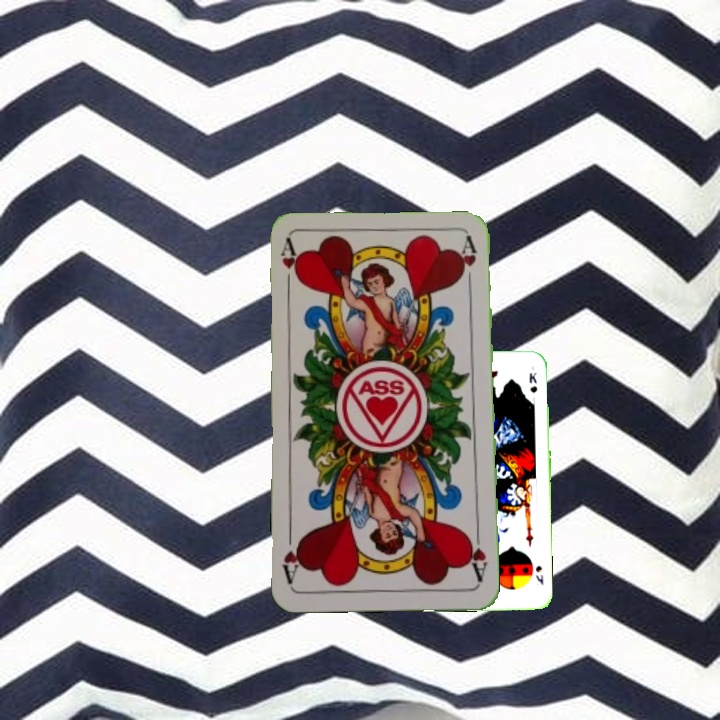HA: (463, 526, 491, 585), (276, 237, 302, 296)
SK: (532, 562, 546, 588)
